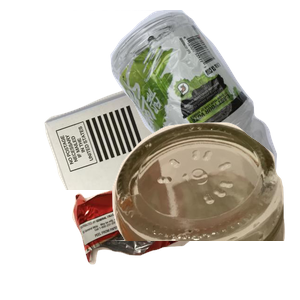glass: (89, 120, 300, 300)
paper: (42, 68, 275, 248)
plastic: (73, 10, 300, 190)
trash: (70, 162, 257, 300)
